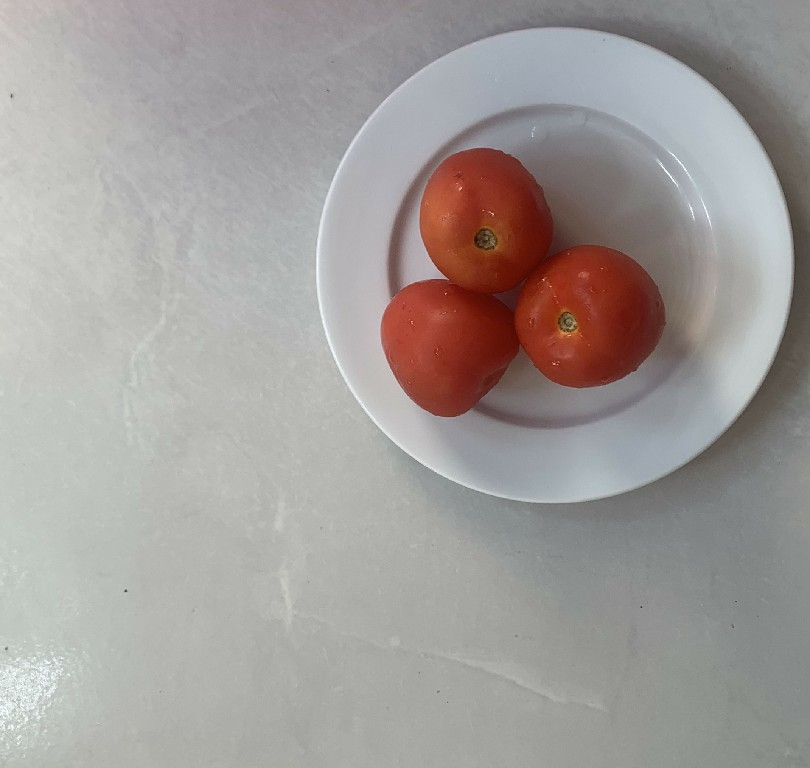OK: (414, 142, 552, 300), (373, 274, 514, 419), (483, 292, 671, 389)
